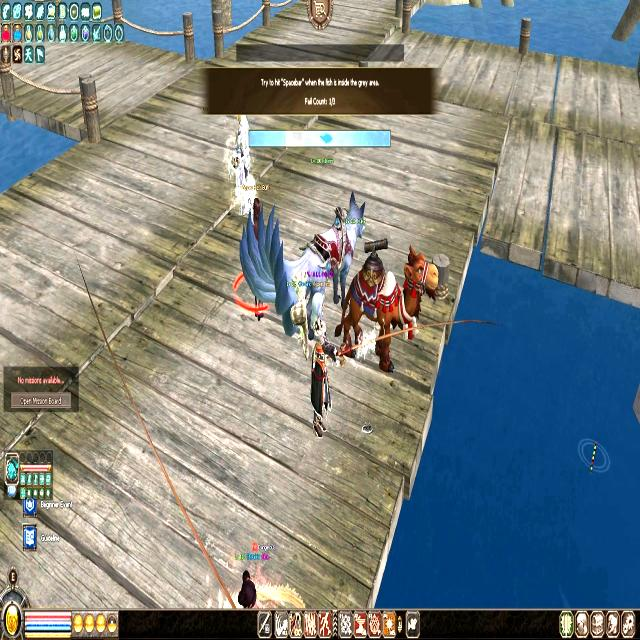fishes: (320, 132, 333, 146)
